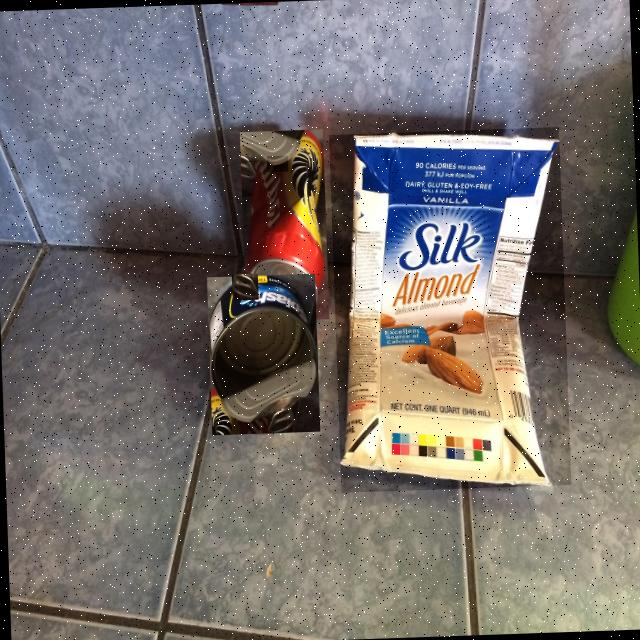Drink can: (244, 129, 324, 320)
Drink carton: (340, 133, 559, 485)
Food Can: (208, 275, 317, 433)
Pop tab: (232, 275, 258, 298), (267, 156, 288, 171)
